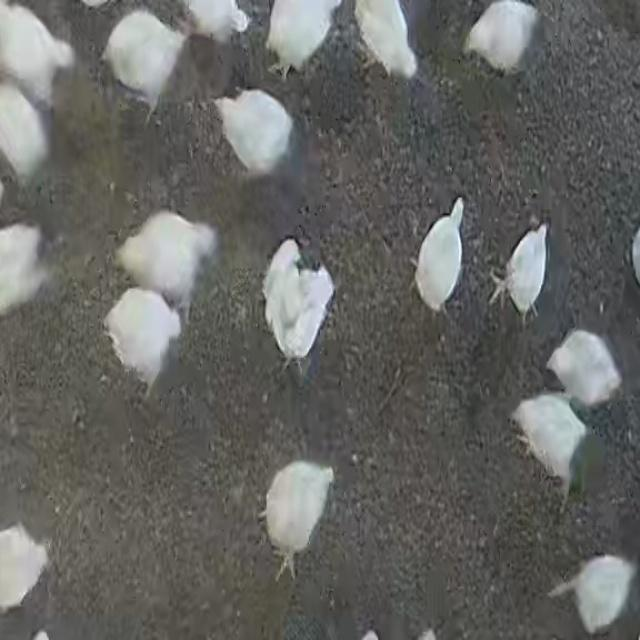chicken: (114, 210, 220, 310), (262, 236, 333, 376), (101, 9, 184, 121), (262, 460, 336, 581), (102, 287, 183, 397), (511, 394, 591, 504), (0, 2, 75, 106), (214, 89, 293, 180), (548, 552, 634, 634), (416, 197, 470, 313), (490, 222, 549, 328), (264, 2, 344, 79), (0, 82, 55, 191), (547, 328, 620, 409), (465, 0, 541, 77), (351, 1, 419, 82), (2, 222, 53, 321), (0, 522, 51, 614), (180, 0, 251, 42)
